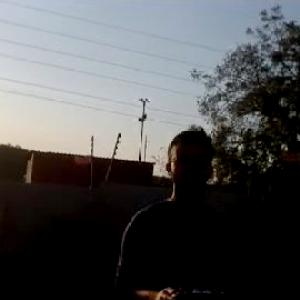follow: (108, 123, 242, 299)
